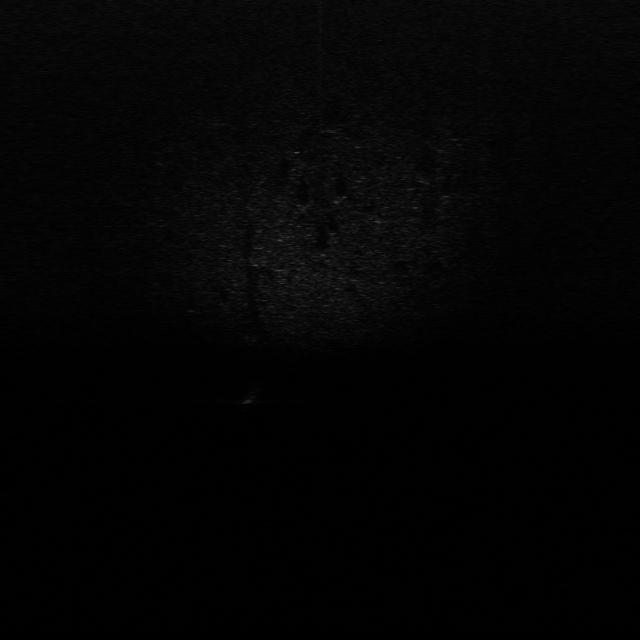human body: (238, 379, 267, 415)
